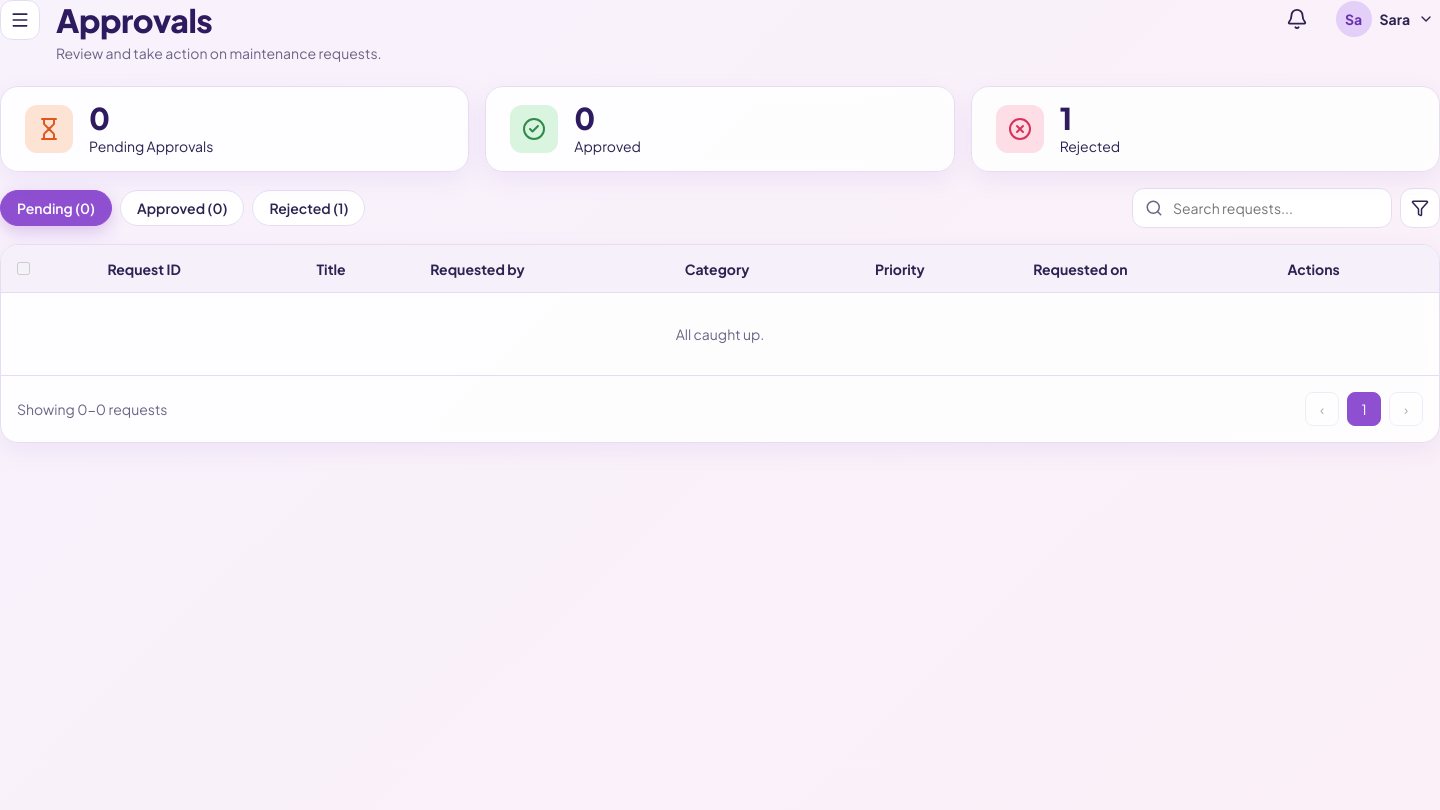
Test case: Approvals page (live) › rejected tab: decision shown, no controls; ANY_ONE request still pending is explained
Expected: the text "All caught up." is shown, left=1, top=292, right=1439, bottom=375
Click the tab "Rejected (1)" at (309, 208), box left=252, top=190, right=366, bottom=226
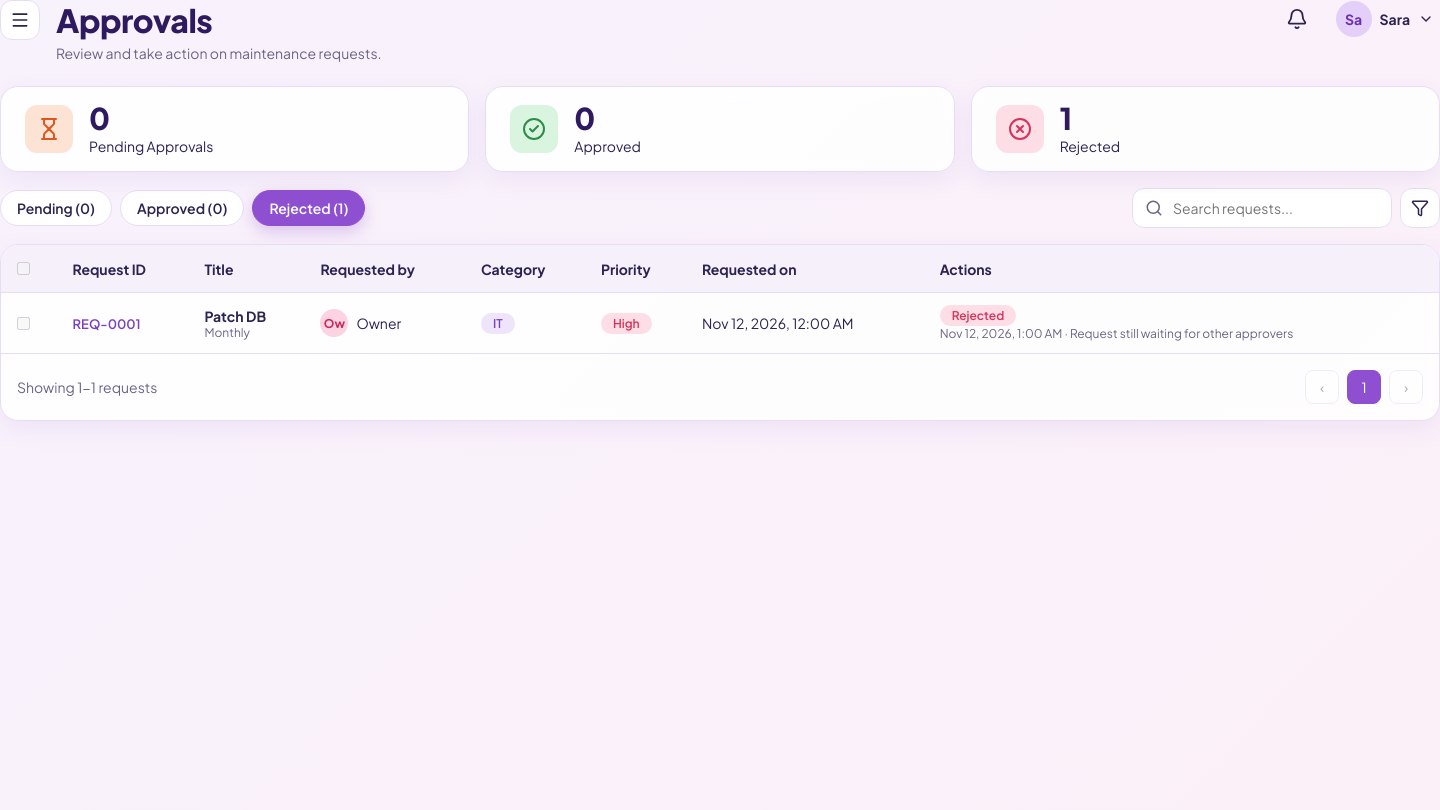
Expected: the text "still waiting for other approvers" is shown, left=1062, top=326, right=1293, bottom=341
